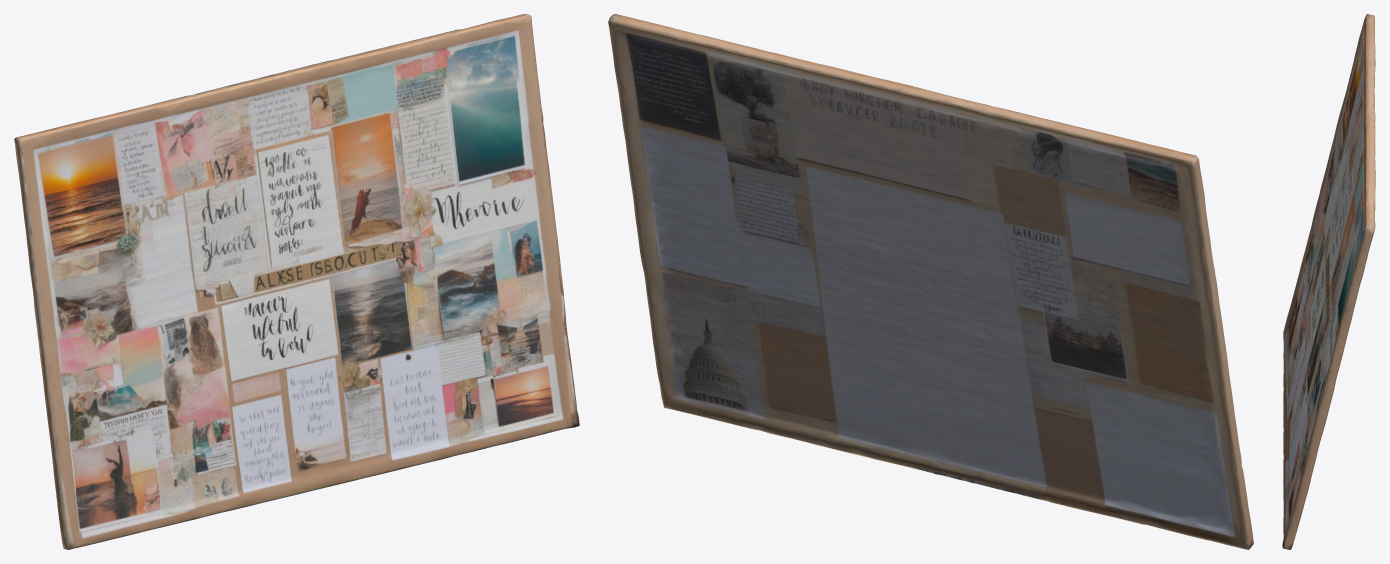
The model's file is A vision board.gltf.
The picture shows the model from 3 angles, left to right: view 1: azimuth 30°, elevation 25°; view 2: azimuth 150°, elevation 25°; view 3: azimuth 270°, elevation 25°; orthographic projection. The views are drawn at different scales.
Parts seen in each view (by area): view 1: Mesh1.0; view 2: Mesh1.0; view 3: Mesh1.0.
Part boxes in pixels (box(x1,y1,x2,y2)): Mesh1.0: box(14, 14, 579, 549); Mesh1.0: box(608, 14, 1253, 549); Mesh1.0: box(1282, 14, 1375, 549).
Size of the model in its own units: 2.01 by 1.41 by 0.3685.
Materials: 1 (1 with a texture image).
